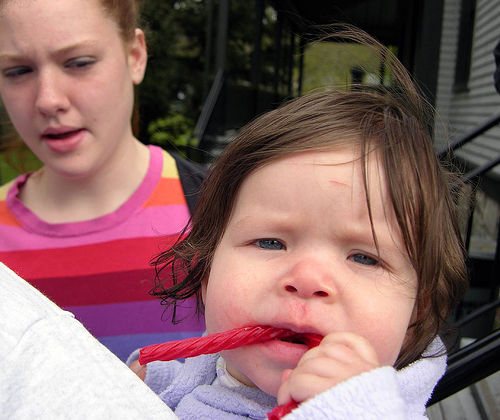without_mask: (197, 150, 424, 401), (1, 3, 157, 176)
